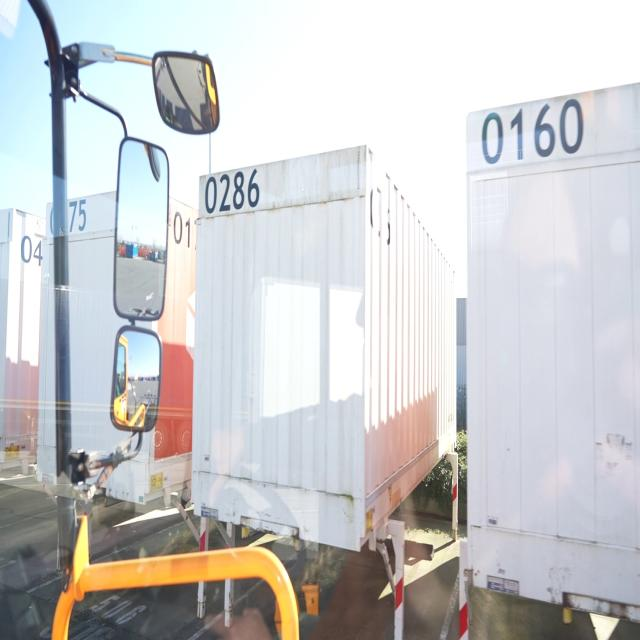Code: (482, 92, 584, 168), (203, 165, 260, 214)
